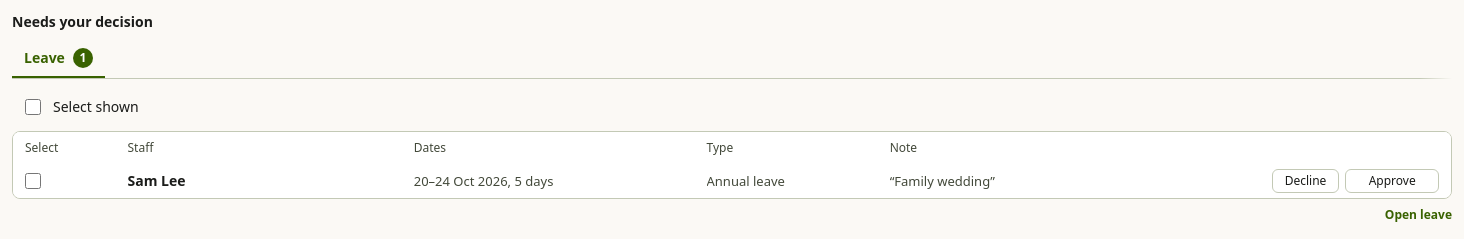
it: Leave group — Approve › never swallows overlaps: a notice names the shifts with their cover tasks and the trips, and opens the roster at the first one
Click the button with aria-label "Approve leave: Sam Lee, 20–24 Oct 2026" at (1392, 181), box [1345, 169, 1439, 193]
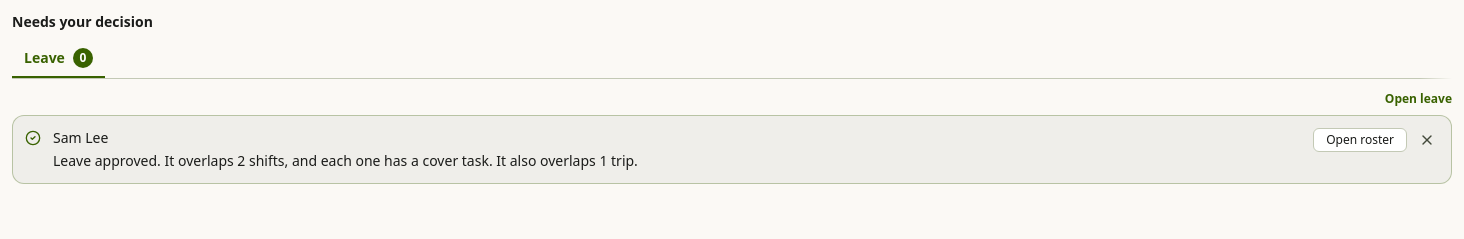
Expected: the text "Leave approved. It overlaps 2 shifts, and each one has a cover task. It also overlaps 1 trip." is shown, [53, 151, 638, 170]
